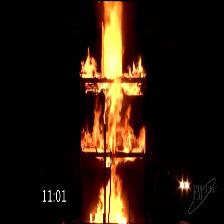fire: (94, 8, 136, 218)
